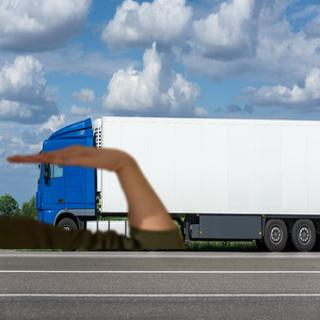WAIT: (3, 141, 131, 174)
